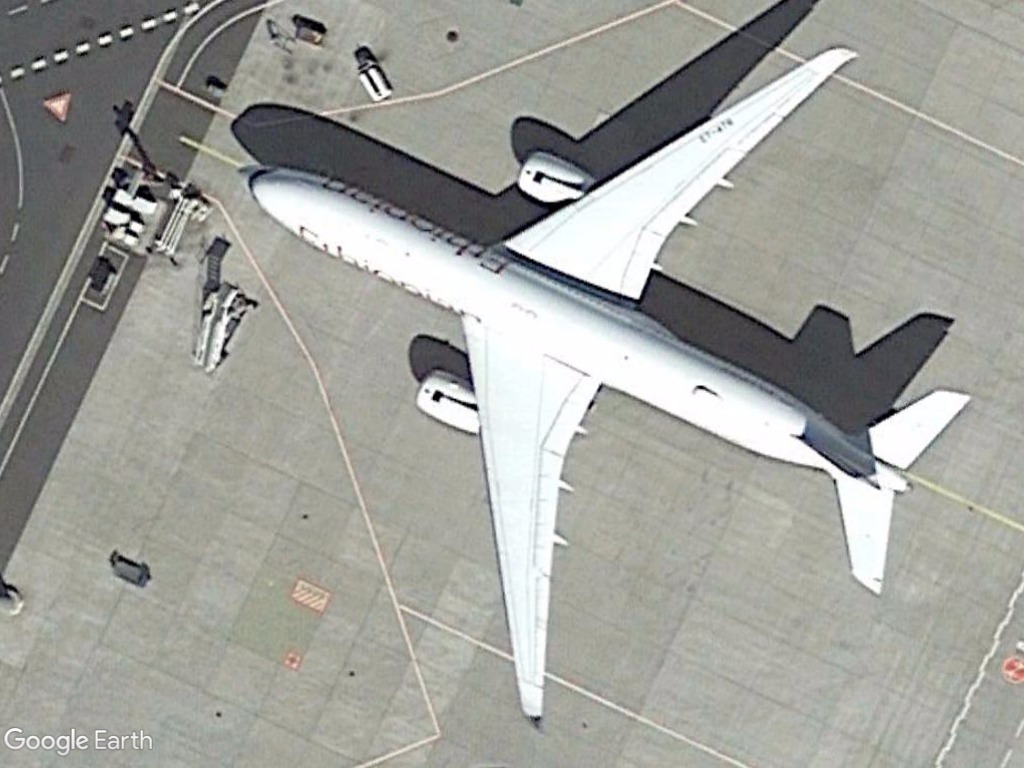airliner: (222, 36, 988, 726)
